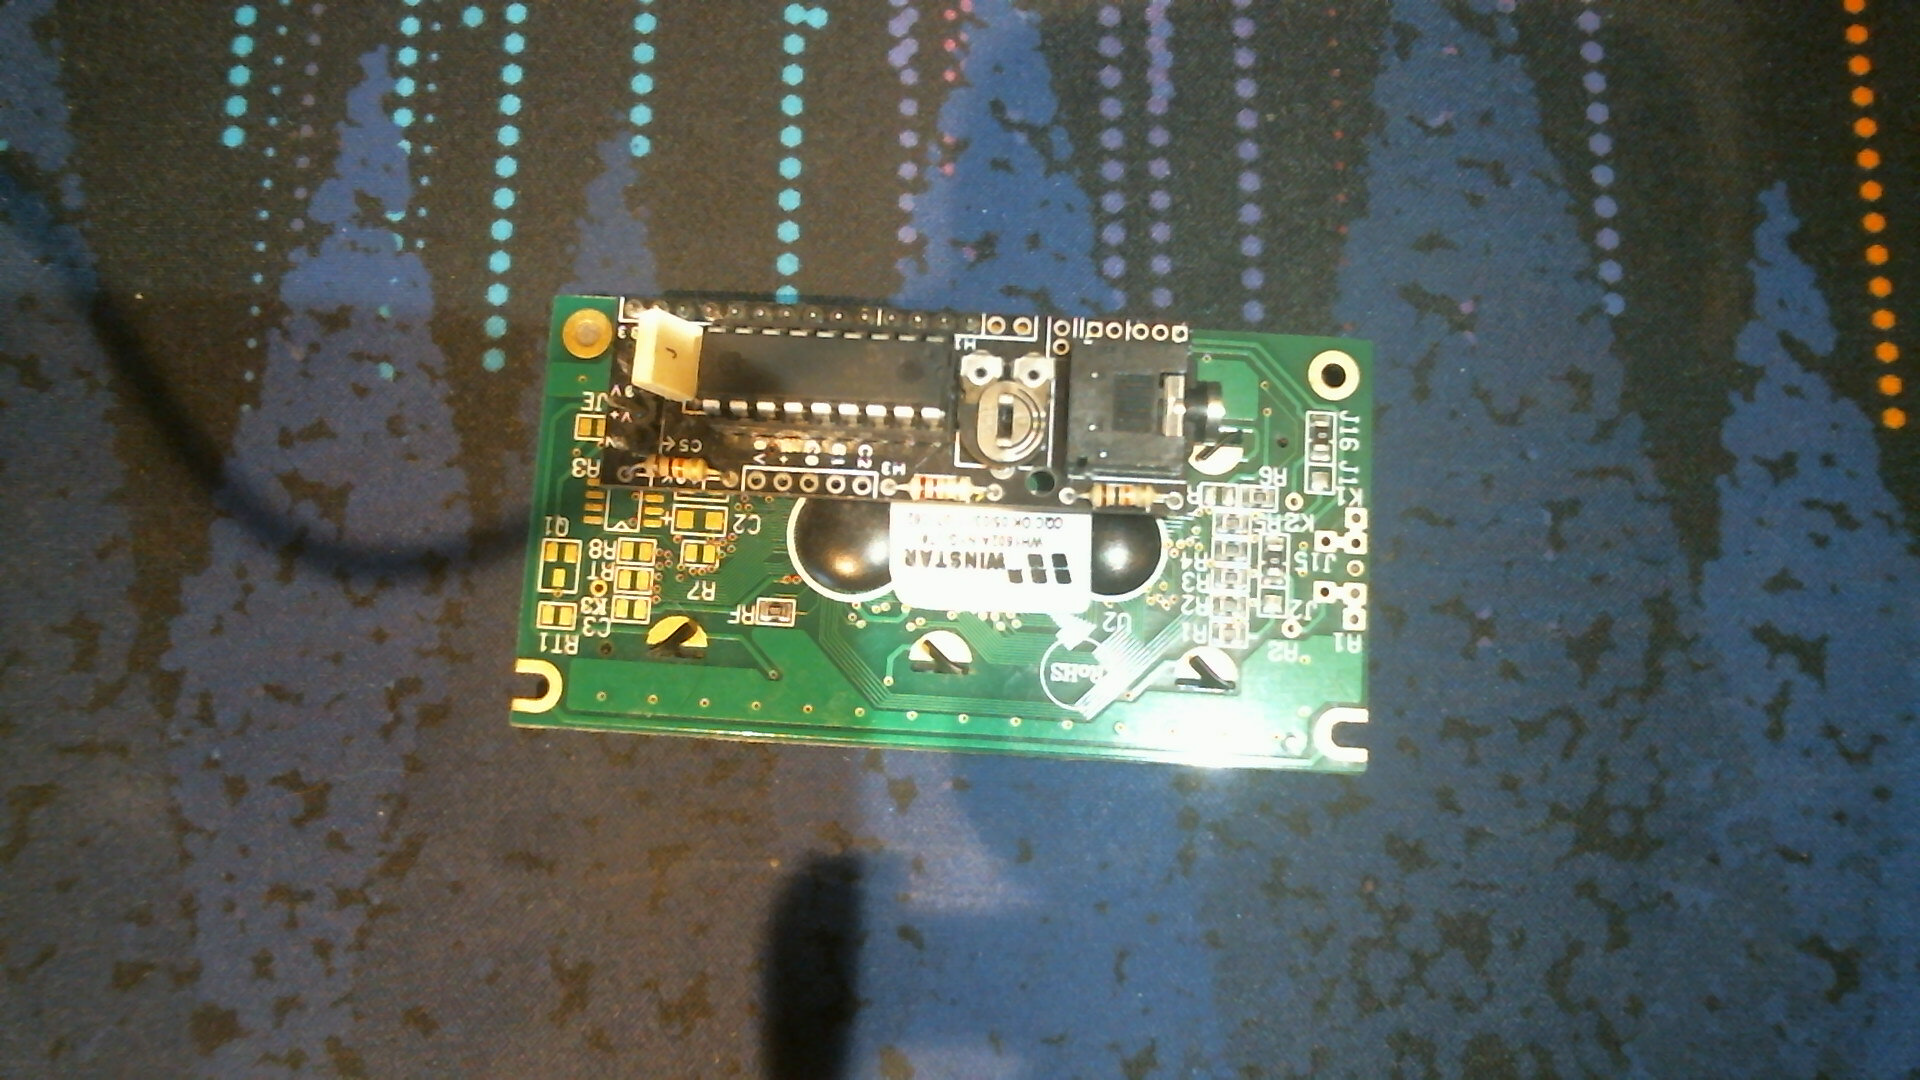resistor: (1069, 481, 1178, 514), (891, 471, 1000, 502), (633, 451, 723, 484)
